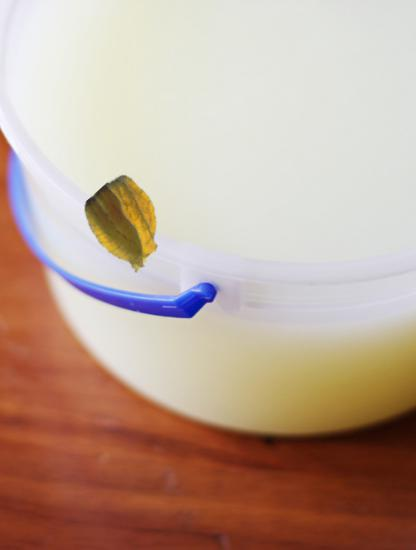Physalis: (83, 179, 173, 269)
